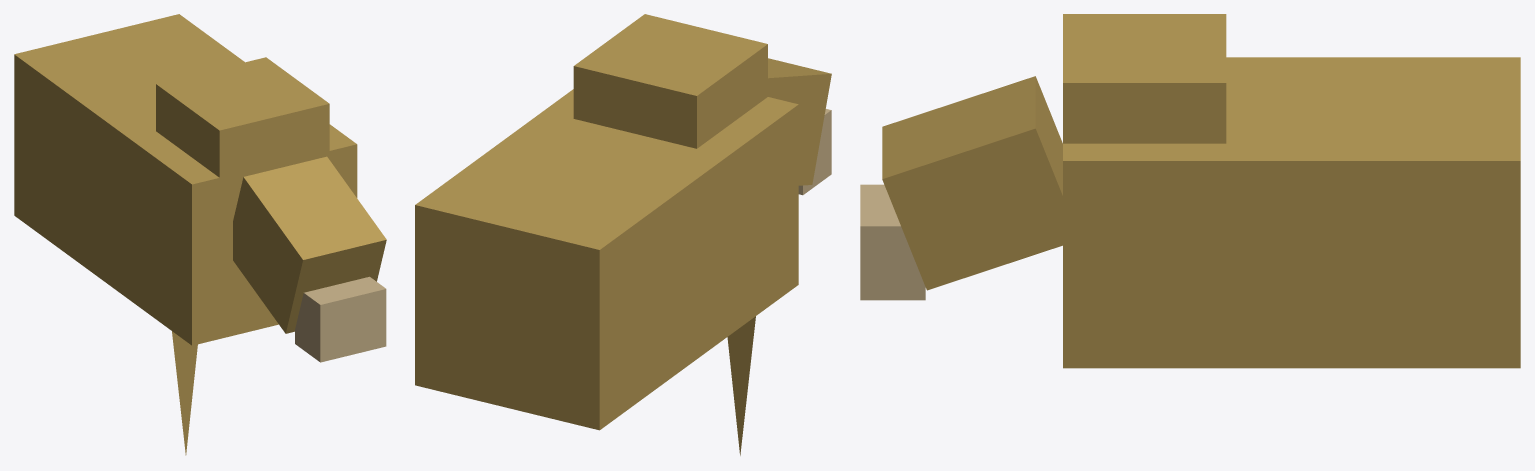
Rendered from prop_cow_lod1.glb.
The picture shows the model from 3 angles, left to right: view 1: azimuth 30°, elevation 25°; view 2: azimuth 150°, elevation 25°; view 3: azimuth 270°, elevation 25°; orthographic projection. The views are drawn at different scales.
Visible parts, largest first — view 1: prop_cow_lod1; view 2: prop_cow_lod1; view 3: prop_cow_lod1.
Part boxes in pixels (x1,y1,x2,y2): prop_cow_lod1: [14, 14, 386, 455]; prop_cow_lod1: [415, 14, 831, 455]; prop_cow_lod1: [860, 14, 1520, 368].
Size of the model in its own units: 0.75 by 1.5 by 2.02.
